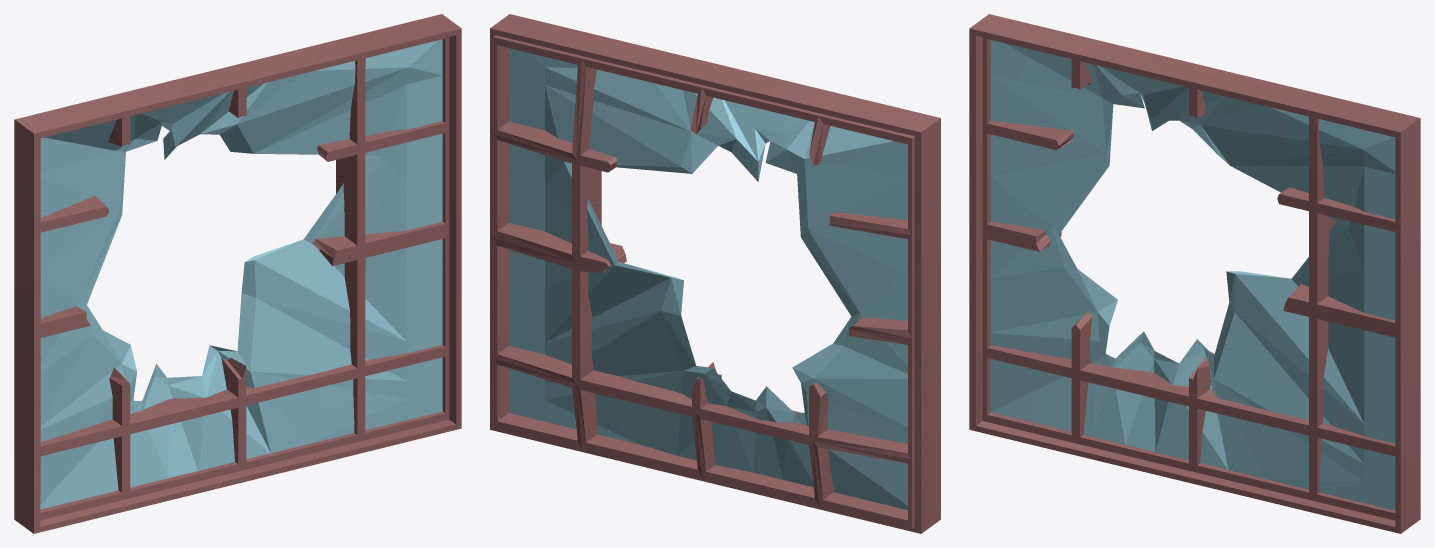
The model's file is window_1.obj.
3 renders of one model, left to right at view 1: azimuth 30°, elevation 25°; view 2: azimuth 150°, elevation 25°; view 3: azimuth 330°, elevation 25°, orthographic.
Visible parts, largest first — view 1: window_panel_1.001_Mesh, window_bars_1.001_Mesh; view 2: window_panel_1.001_Mesh, window_bars_1.001_Mesh; view 3: window_panel_1.001_Mesh, window_bars_1.001_Mesh.
Boxes of the visible parts, x1=… form: window_panel_1.001_Mesh: x1=40, y1=39, x2=442, y2=509; window_bars_1.001_Mesh: x1=14, y1=14, x2=461, y2=533; window_panel_1.001_Mesh: x1=509, y1=48, x2=907, y2=510; window_bars_1.001_Mesh: x1=490, y1=14, x2=940, y2=533; window_panel_1.001_Mesh: x1=990, y1=40, x2=1395, y2=510; window_bars_1.001_Mesh: x1=969, y1=14, x2=1420, y2=533.
Size of the model in its own units: 2.1 by 1.87 by 0.2444.
